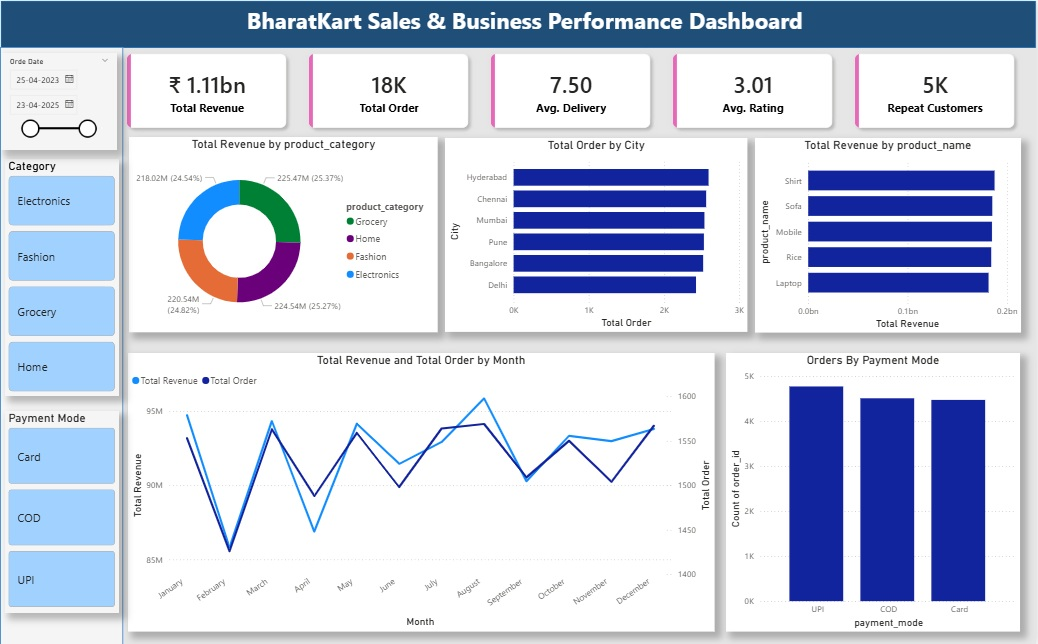

Layout of this report page (visuals, bound fields, positions):
{"tool":"powerbi","page":{"name":"Page 1","canvas":[1480,920],"ordinal":0},"visuals":[{"type":"shape","box":[1.7,0,1478.3,66.7],"z":0},{"type":"textbox","box":[20,0,1460,73.3],"z":1000},{"type":"cardVisual","fields":{"Data":["bharatkart_cleaned.Total_revenue","bharatkart_cleaned.Total_order","bharatkart_cleaned.Avg_delivery","bharatkart_cleaned.Avg_Rating","bharatkart_cleaned.Repeat Customers"]},"box":[150,45,1330,168.3],"z":2000},{"type":"shape","box":[0,66,176,854],"z":3000},{"type":"donutChart","fields":{"Category":["bharatkart_cleaned.product_category"],"Y":["bharatkart_cleaned.Total Revenue"]},"box":[184.8,193.9,441.3,278.7],"z":4000},{"type":"clusteredBarChart","fields":{"Category":["bharatkart_cleaned.city"],"Y":["bharatkart_cleaned.Total Order"]},"box":[635.2,195.9,432.2,276.7],"z":5000},{"type":"lineChart","fields":{"Category":["bharatkart_cleaned.order_date.Variation.Date Hierarchy.Month","bharatkart_cleaned.order_date.Variation.Date Hierarchy.Day"],"Y":["bharatkart_cleaned.Total Revenue"],"Y2":["bharatkart_cleaned.Total Order"]},"box":[182.5,502.5,837.5,397.5],"z":6000},{"type":"columnChart","title":"Orders By Payment Mode","fields":{"Category":["bharatkart_cleaned.payment_mode"],"Y":["CountNonNull(bharatkart_cleaned.order_id)"]},"box":[1037.5,502.5,420,397.5],"z":7000},{"type":"advancedSlicerVisual","title":"Category","fields":{"Values":["bharatkart_cleaned.product_category"]},"box":[7.5,225,162.5,337.5],"z":8000},{"type":"slicer","fields":{"Values":["bharatkart_cleaned.order_date"]},"box":[1.2,73.8,166.2,138.8],"z":9000},{"type":"advancedSlicerVisual","title":"Payment Mode","fields":{"Values":["bharatkart_cleaned.payment_mode"]},"box":[7.5,585,162.5,287.5],"z":10000},{"type":"barChart","fields":{"Y":["bharatkart_cleaned.Total Revenue"],"Category":["bharatkart_cleaned.product_name"]},"box":[1078.3,195,380,278.3],"z":11000}]}

Visuals, with their boxes in screenshot pixels (x1, y1, x2, y2), scaled from the page's 1480x920 canvas onto the 1038x644 screenshot:
shape: [1,0,1037,47]
textbox: [14,0,1037,51]
cardVisual - bharatkart_cleaned.Total_revenue x bharatkart_cleaned.Total_order: [105,31,1037,149]
shape: [0,46,123,643]
donutChart - bharatkart_cleaned.product_category x bharatkart_cleaned.Total Revenue: [130,136,439,331]
clusteredBarChart - bharatkart_cleaned.city x bharatkart_cleaned.Total Order: [445,137,749,331]
lineChart - bharatkart_cleaned.order_date.Variation.Date Hierarchy.Month x bharatkart_cleaned.order_date.Variation.Date Hierarchy.Day: [128,352,715,630]
"Orders By Payment Mode" columnChart: [728,352,1022,630]
"Category" advancedSlicerVisual: [5,158,119,394]
slicer - bharatkart_cleaned.order_date: [1,52,117,149]
"Payment Mode" advancedSlicerVisual: [5,410,119,611]
barChart - bharatkart_cleaned.Total Revenue x bharatkart_cleaned.product_name: [756,136,1023,331]
